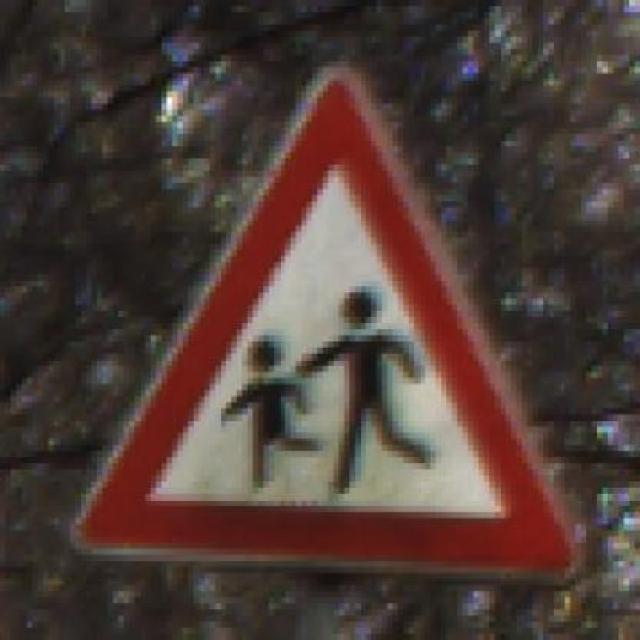Beware of children: (59, 42, 586, 580)
